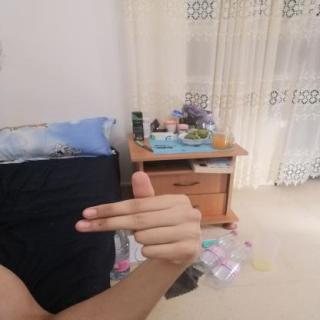GHAYN: (68, 166, 210, 276)
